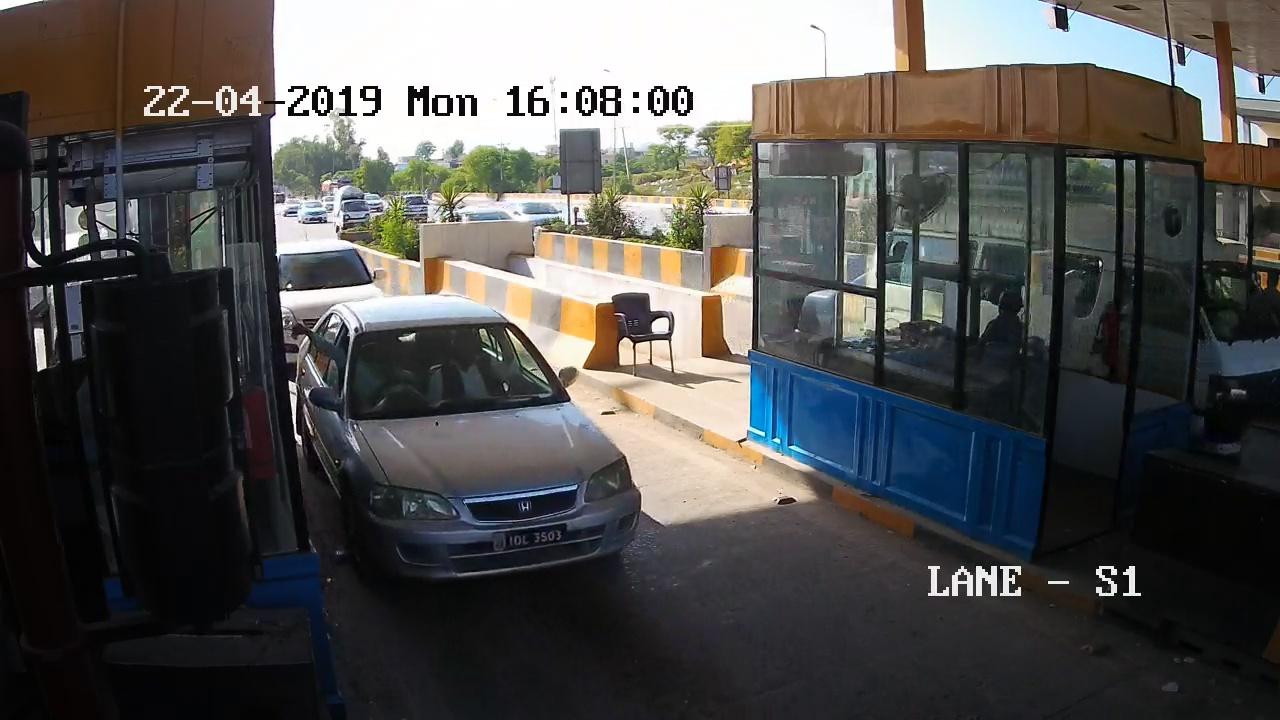Number Plate (Car): (491, 527, 569, 547)
